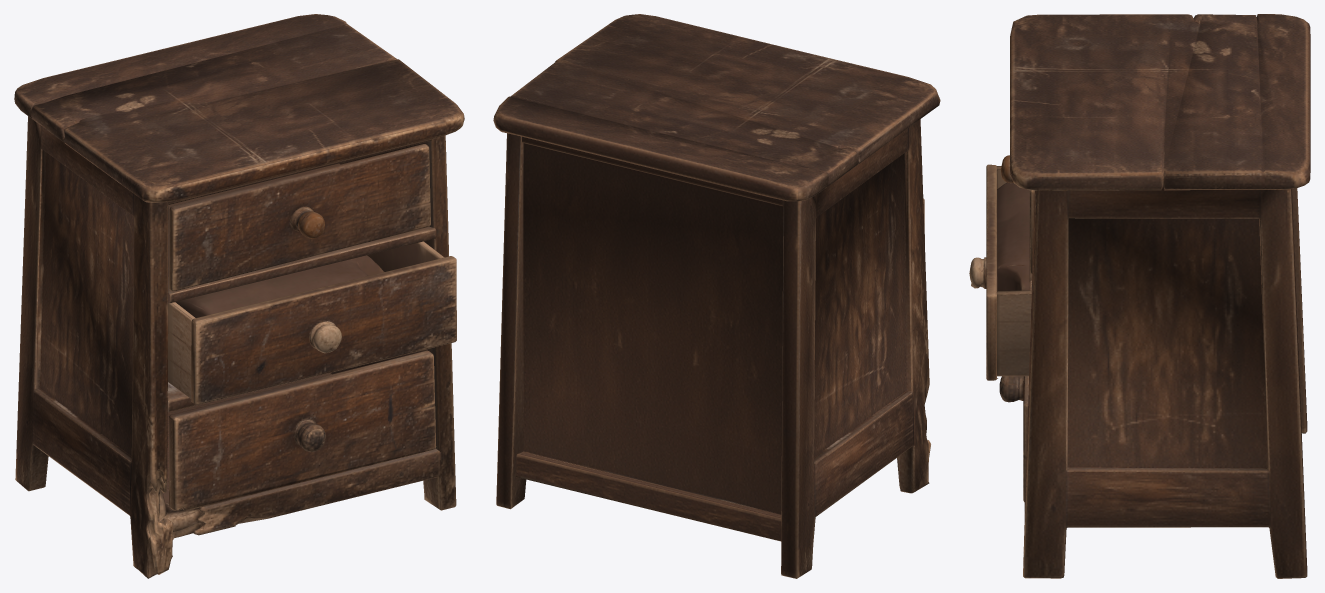
File: Meshy_AI_Weathered_Wooden_Dresser_20261029_texture.fbx
The picture shows the model from 3 angles, left to right: view 1: azimuth 30°, elevation 25°; view 2: azimuth 150°, elevation 25°; view 3: azimuth 270°, elevation 25°; orthographic projection. The views are drawn at different scales.
Visible parts, largest first — view 1: Mesh_0; view 2: Mesh_0; view 3: Mesh_0.
Part boxes in pixels (x1,y1,x2,y2): Mesh_0: (14, 14, 464, 578); Mesh_0: (493, 14, 940, 578); Mesh_0: (969, 14, 1310, 578).
Bounding box in the file's own units: 80.96 × 95.26 × 71.68.
1 material, 1 textured.
